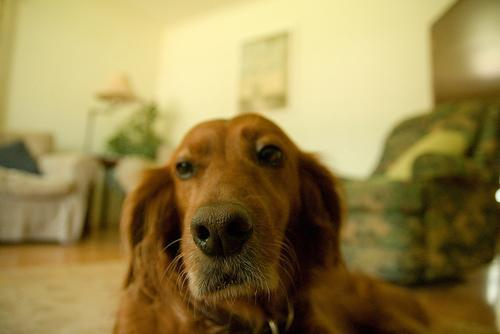Irish_setter: (110, 110, 457, 332)
